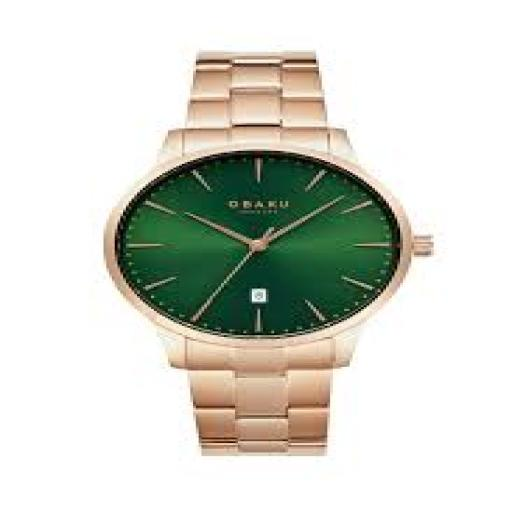KolSaati: (85, 29, 469, 473)
